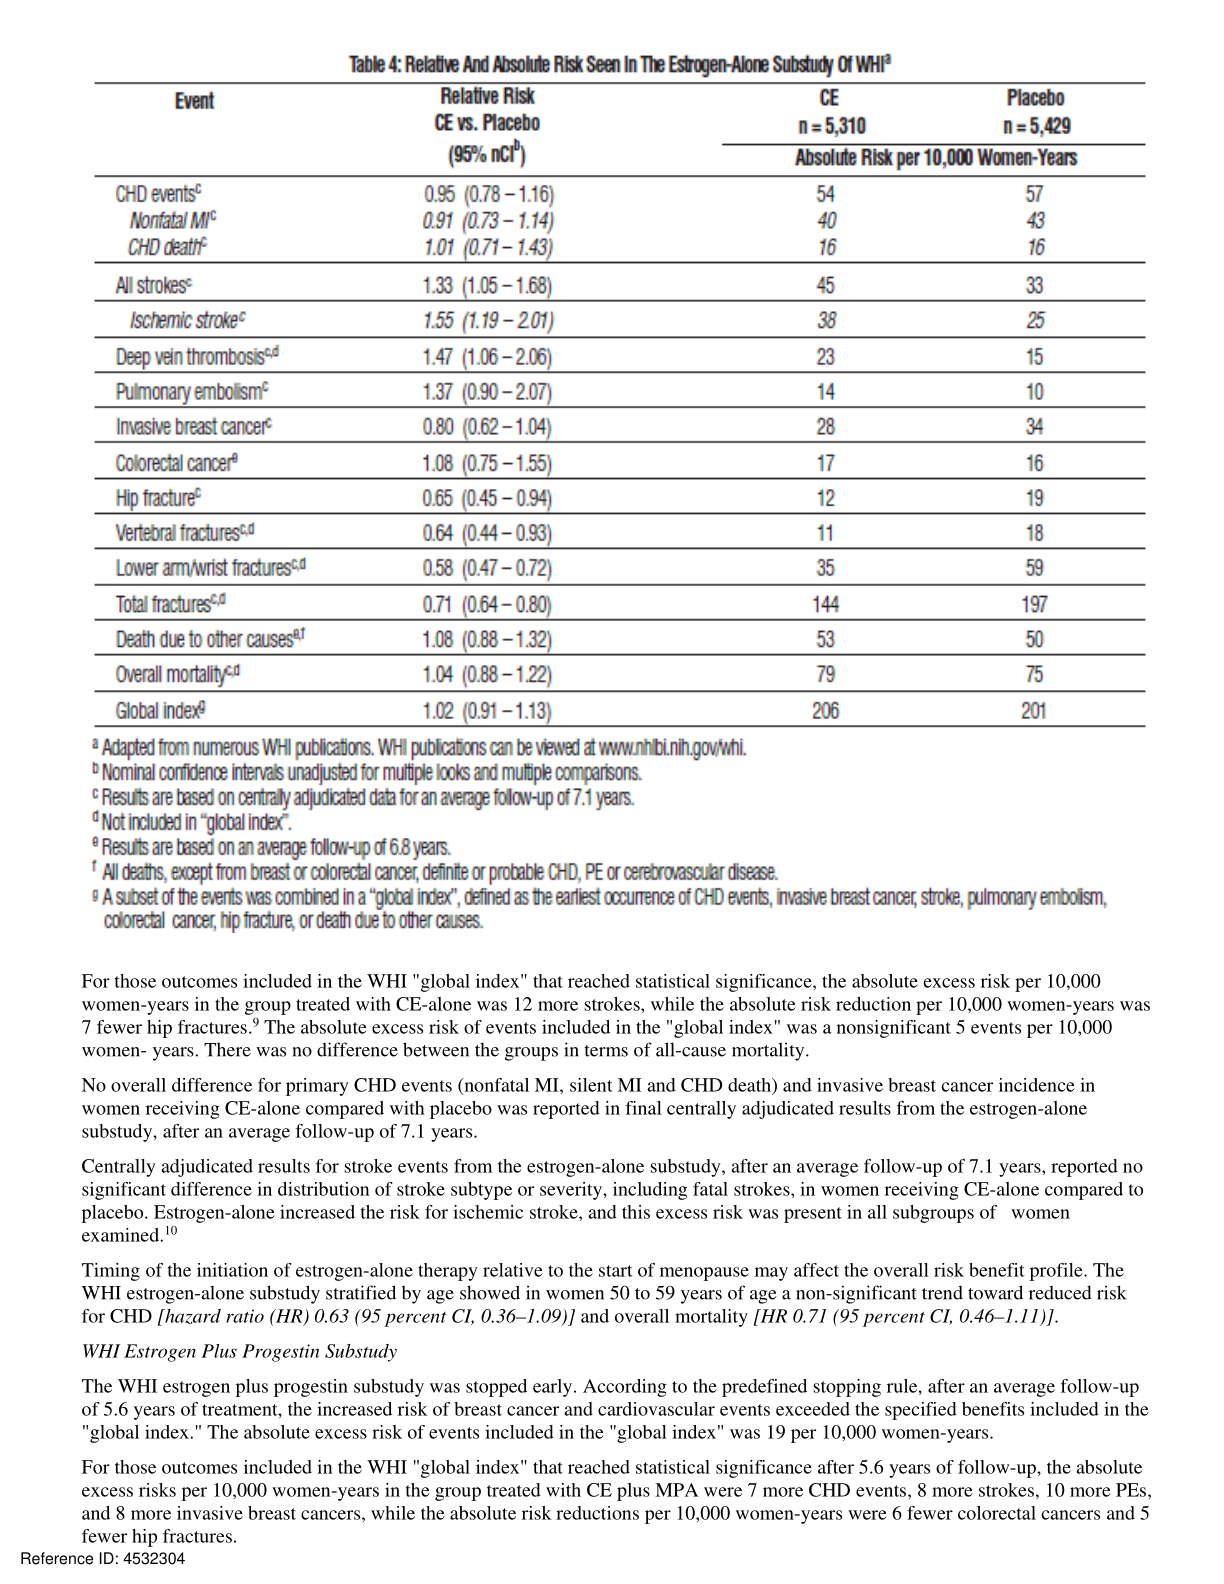partial_lined_merged_cells: (93, 78, 1148, 732)
